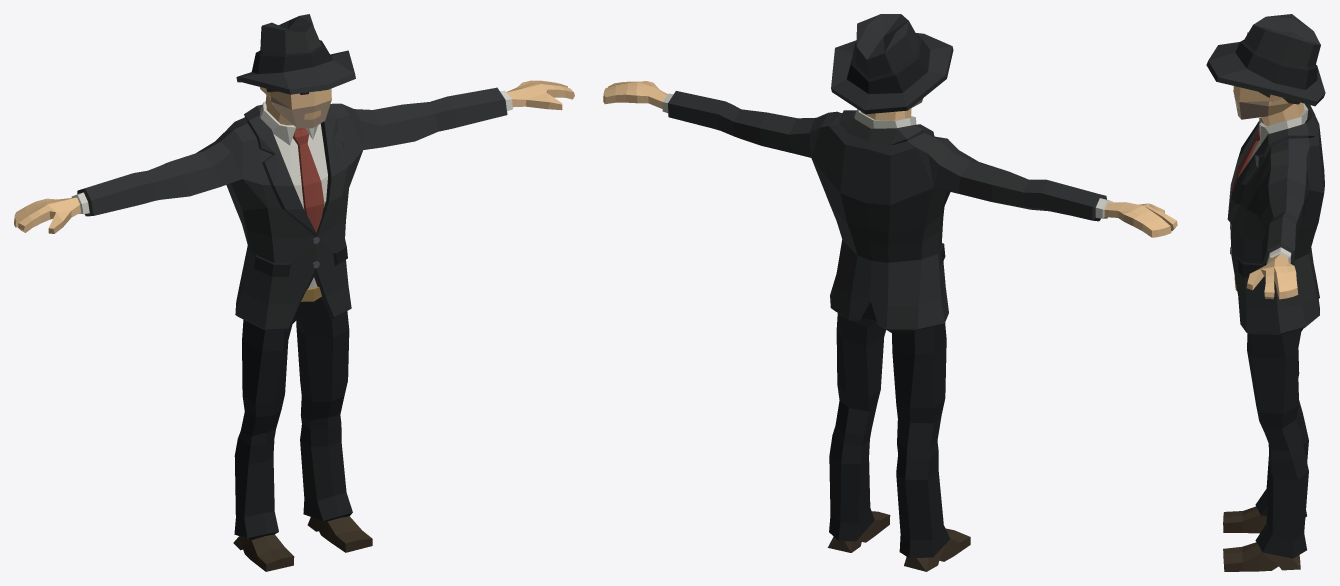
File: Mafiosi_01.fbx
3 renders of one model, left to right at view 1: azimuth 30°, elevation 25°; view 2: azimuth 150°, elevation 25°; view 3: azimuth 270°, elevation 25°, orthographic. The views are drawn at different scales.
Parts seen in each view (by area): view 1: Mafiosi_01; view 2: Mafiosi_01; view 3: Mafiosi_01.
Part boxes in pixels (x1,y1,x2,y2): Mafiosi_01: [14, 14, 574, 571]; Mafiosi_01: [603, 14, 1177, 571]; Mafiosi_01: [1206, 14, 1325, 571].
Size of the model in its own units: 2.02 by 1.8 by 0.3725.
